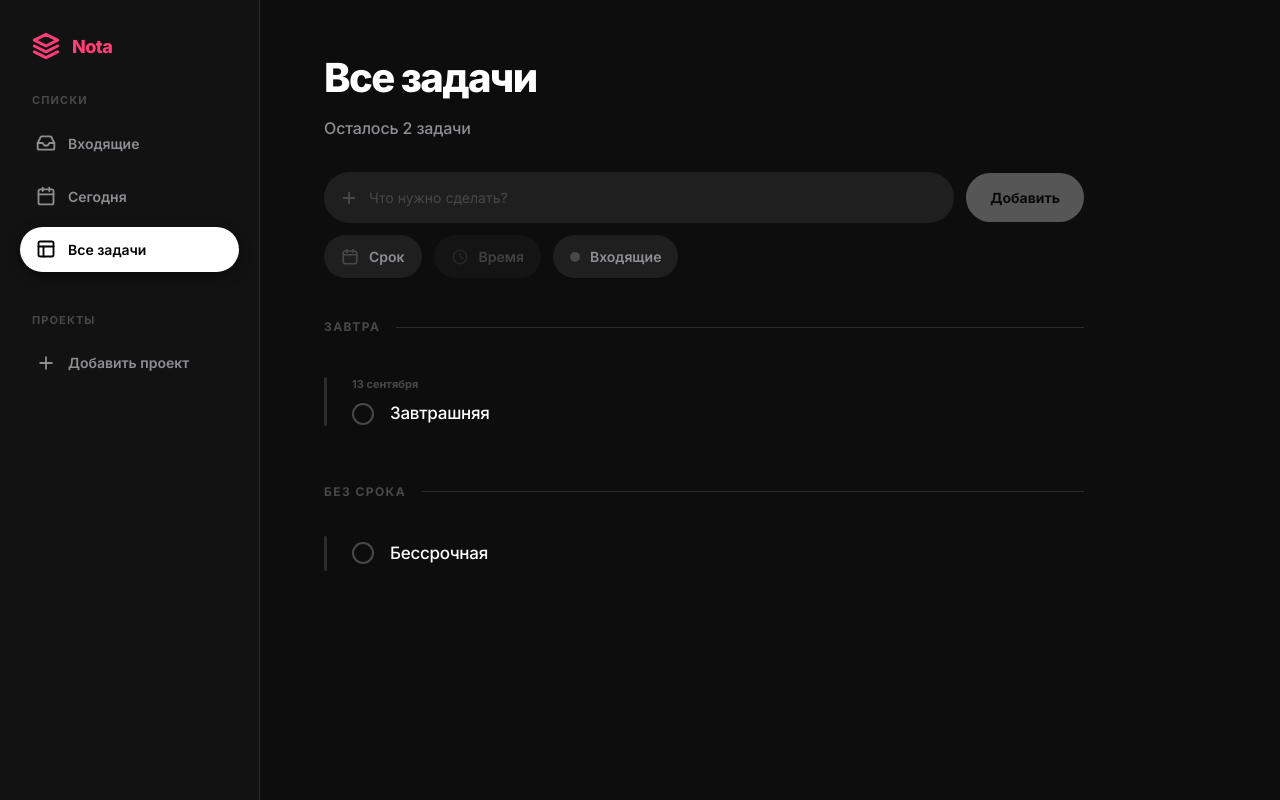
Test: раздел «Сегодня» › без задач на сегодня говорит об этом, а не молчит
This screenshot has width=1280, height=800.
Expected: the button "Завтрашняя" is shown, top-left (390, 401), bottom-right (490, 426)
Click the button "Сегодня" at (130,196), box top-left (20, 174), bottom-right (239, 218)
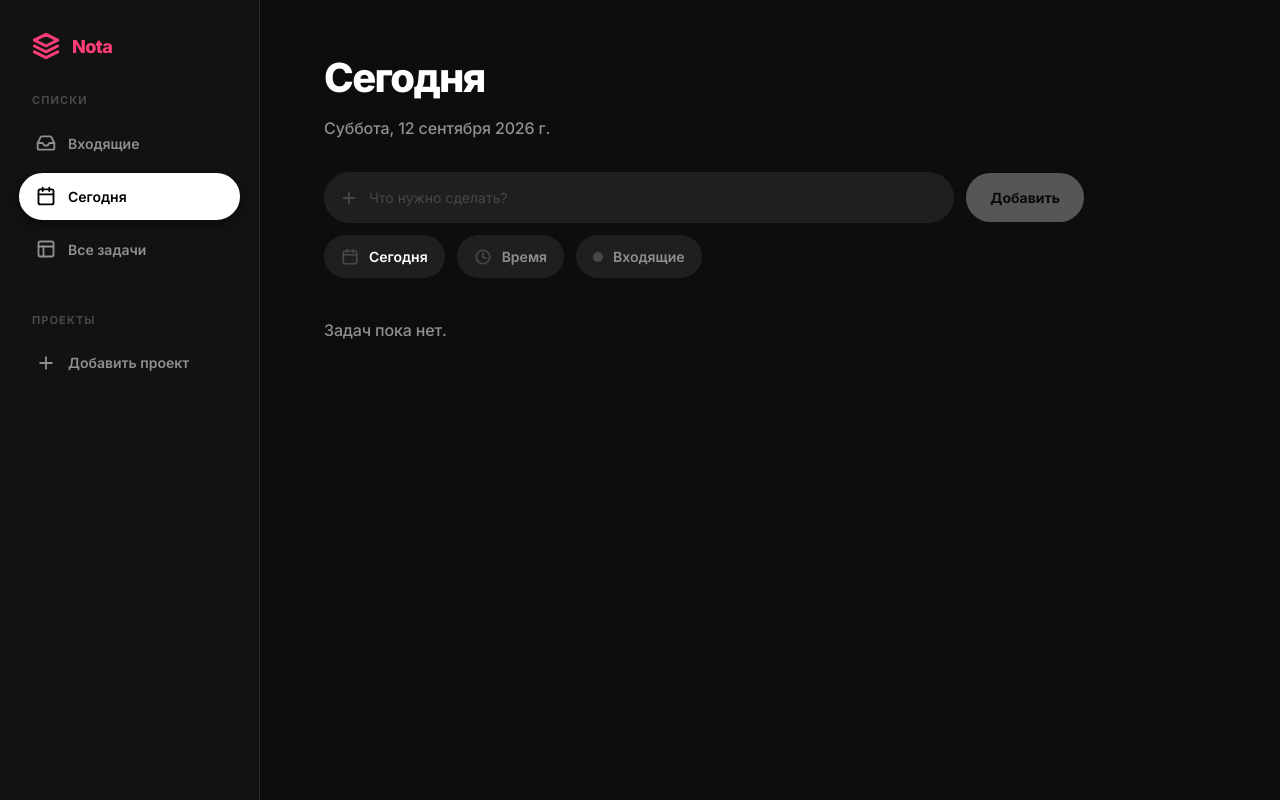
Expected: the text "Задач пока нет." is shown, top-left (324, 320), bottom-right (447, 340)
